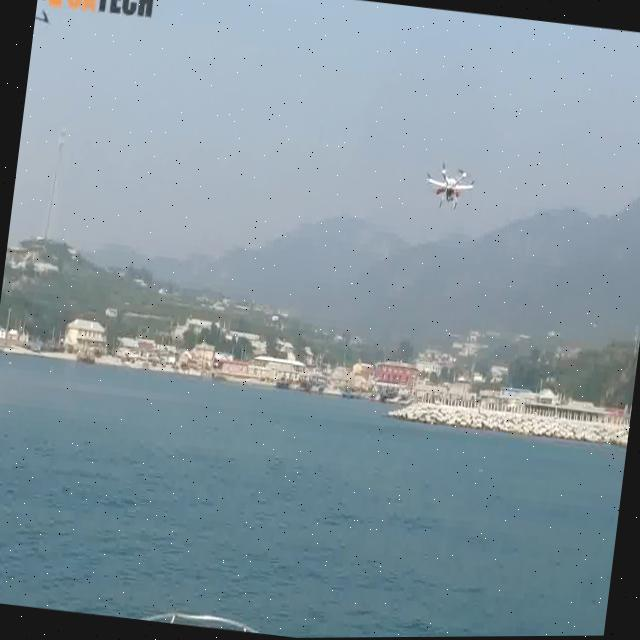drone: (412, 153, 484, 230)
